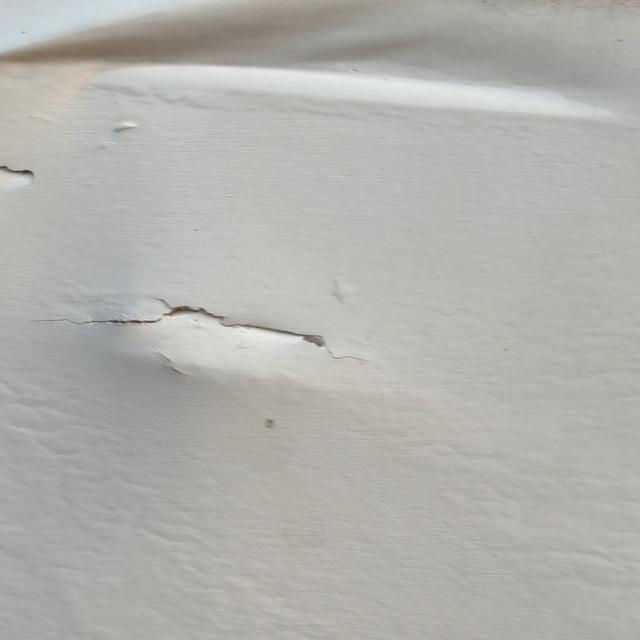Dents or Deformation: (1, 1, 640, 136)
Scratches: (25, 287, 414, 372), (1, 151, 82, 208)
